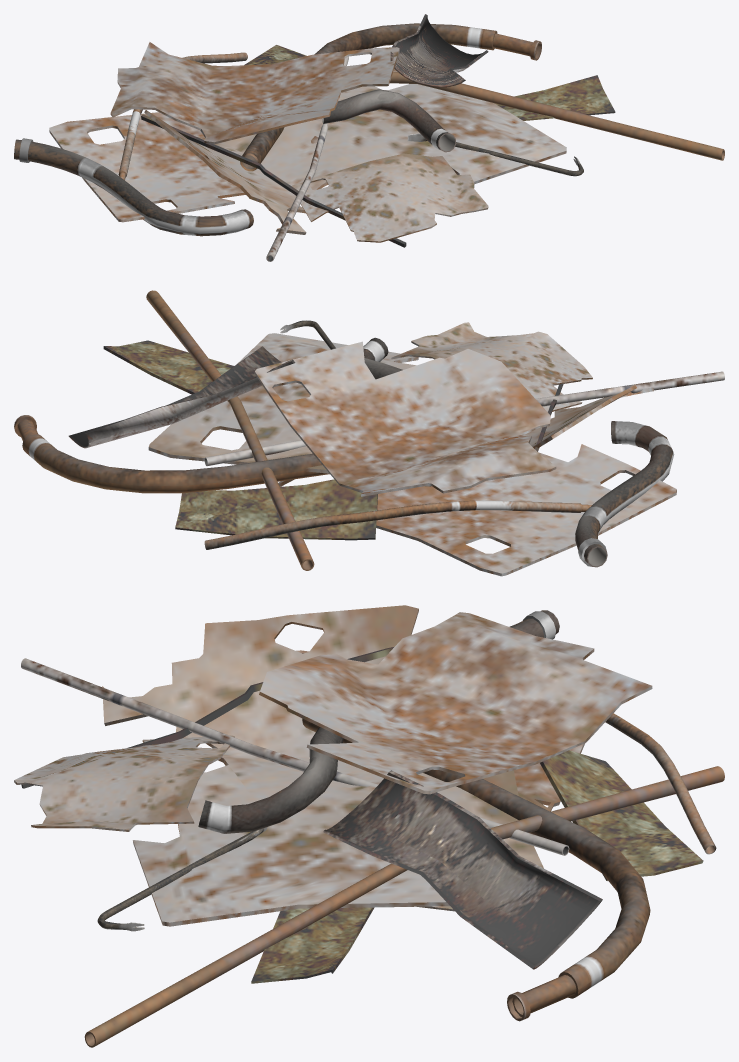
The model's file is MOD_Junkparts_05.fbx.
3 views of the same model, one above another, from view 1: azimuth 30°, elevation 25°; view 2: azimuth 150°, elevation 25°; view 3: azimuth 270°, elevation 25° (orthographic). The views are drawn at different scales.
Parts seen in each view (by area): view 1: MOD_Junkparts_05; view 2: MOD_Junkparts_05; view 3: MOD_Junkparts_05.
Boxes of the visible parts, box(x1,y1,x2,y2) form: MOD_Junkparts_05: box(14, 14, 724, 261); MOD_Junkparts_05: box(14, 290, 724, 576); MOD_Junkparts_05: box(14, 605, 724, 1047).
Size of the model in its own units: 245 by 42.73 by 189.
Materials: 1 (1 with a texture image).
